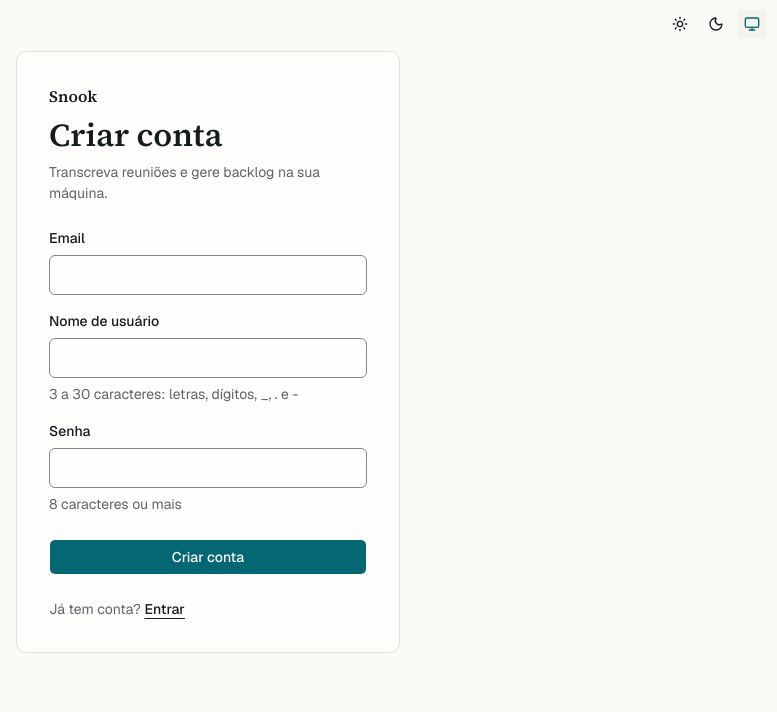
Test: mostra erro geral devolvido pela API (auth 25)
Step 1. Type "ana@x.com" into the field labelled "Email" → (208,275), box [49,255,367,295]
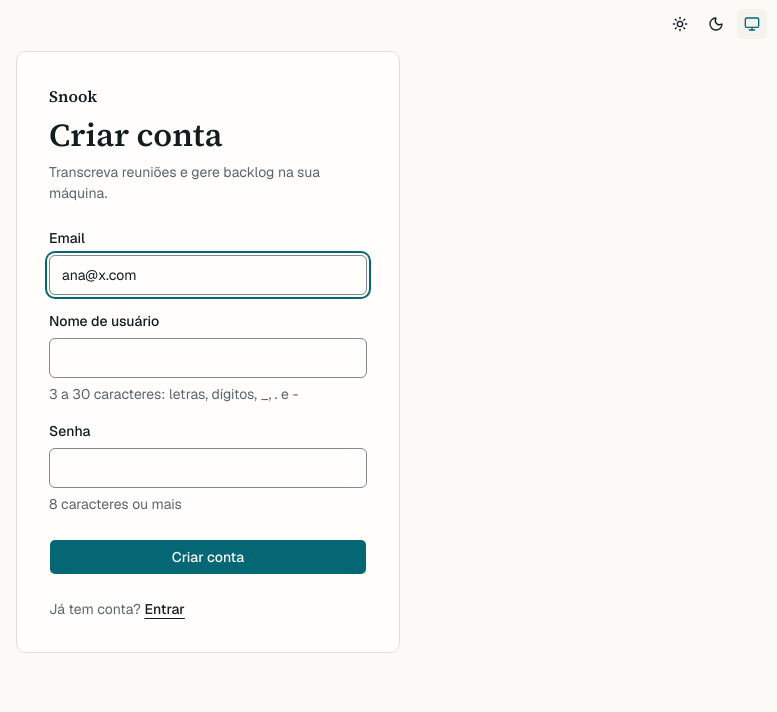
Step 2. Type "ana" into the field labelled "Nome de usuário" → (208,358), box [49,338,367,378]
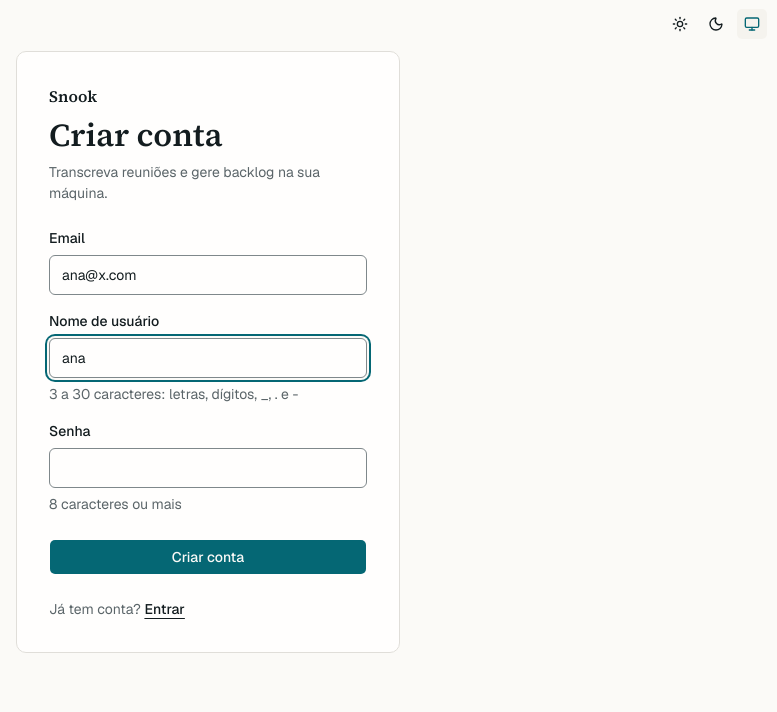
Step 3. Type "senha-forte-1" into the password field labelled "Senha" → (208,468), box [49,448,367,488]
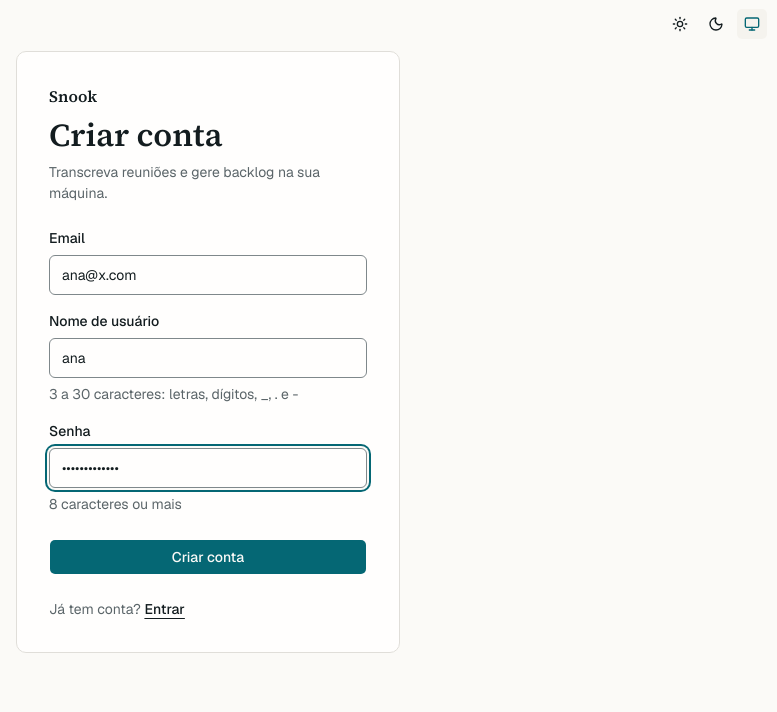
Step 4. Click the button "Criar conta" → (208,557), box [49,539,367,575]
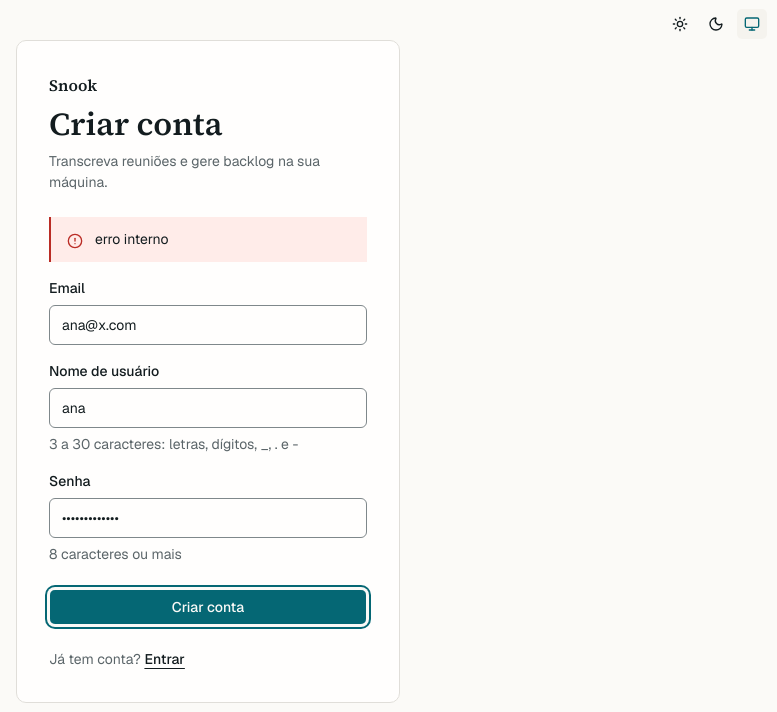
expect the heading "Criar conta" is shown: met, box [49,102,222,146]
expect the message reads "erro interno": met, box [95,230,168,248]
